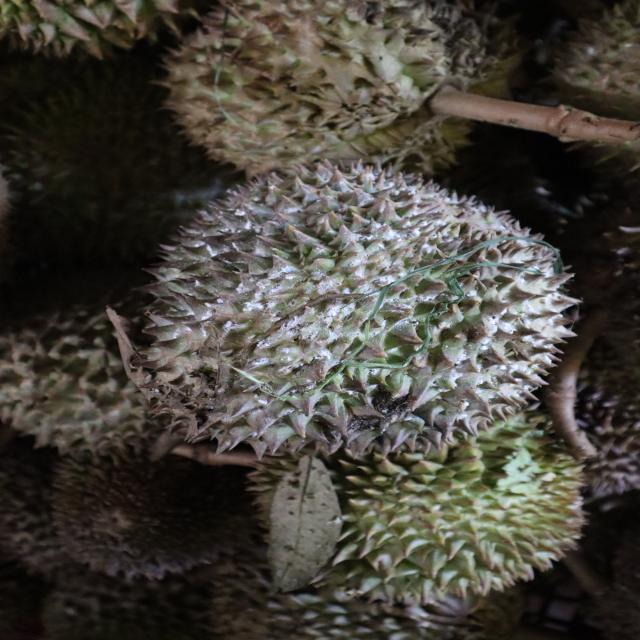defective: (125, 167, 580, 472)
